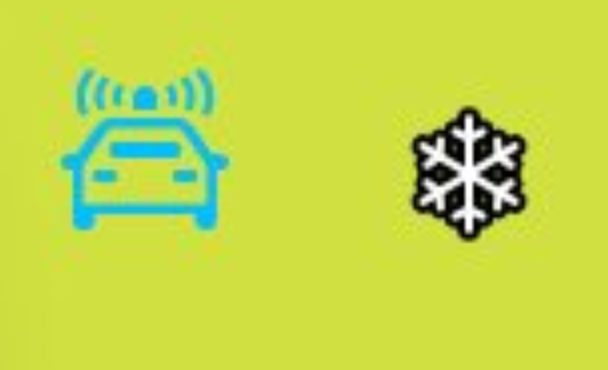EISSTERN: (386, 101, 545, 254)
SEV_INF: (25, 50, 259, 260)
